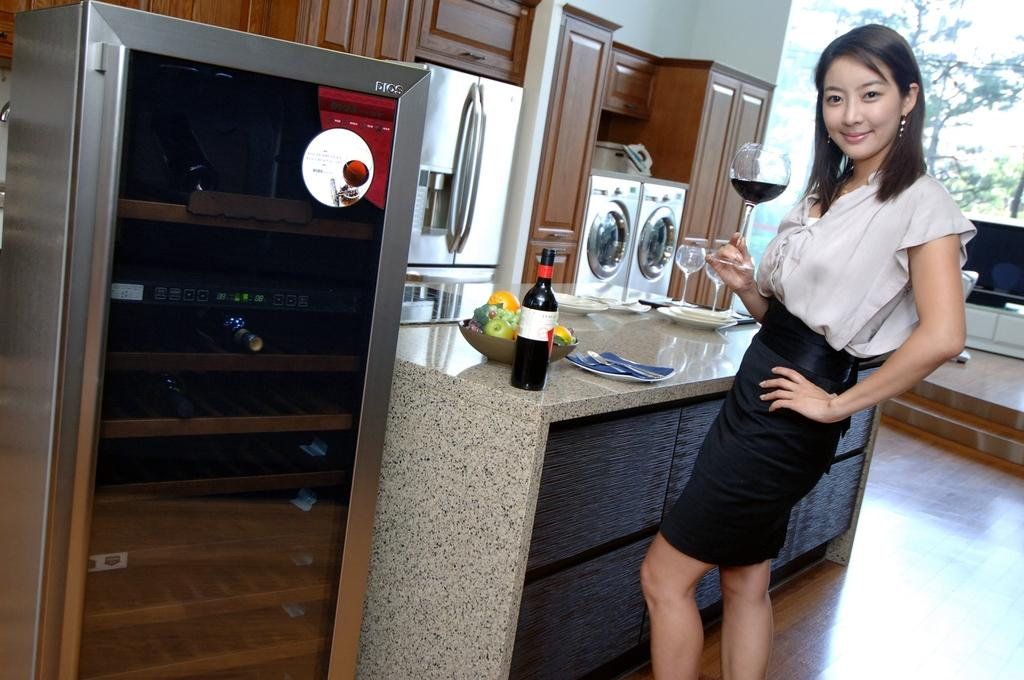cabinet_door: (550, 416, 664, 540), (536, 554, 642, 654), (555, 13, 585, 244), (434, 7, 518, 76), (696, 78, 726, 238), (380, 0, 410, 48)
handle: (55, 44, 131, 680), (551, 394, 676, 433), (532, 540, 646, 576), (461, 90, 468, 247), (476, 98, 483, 240)
